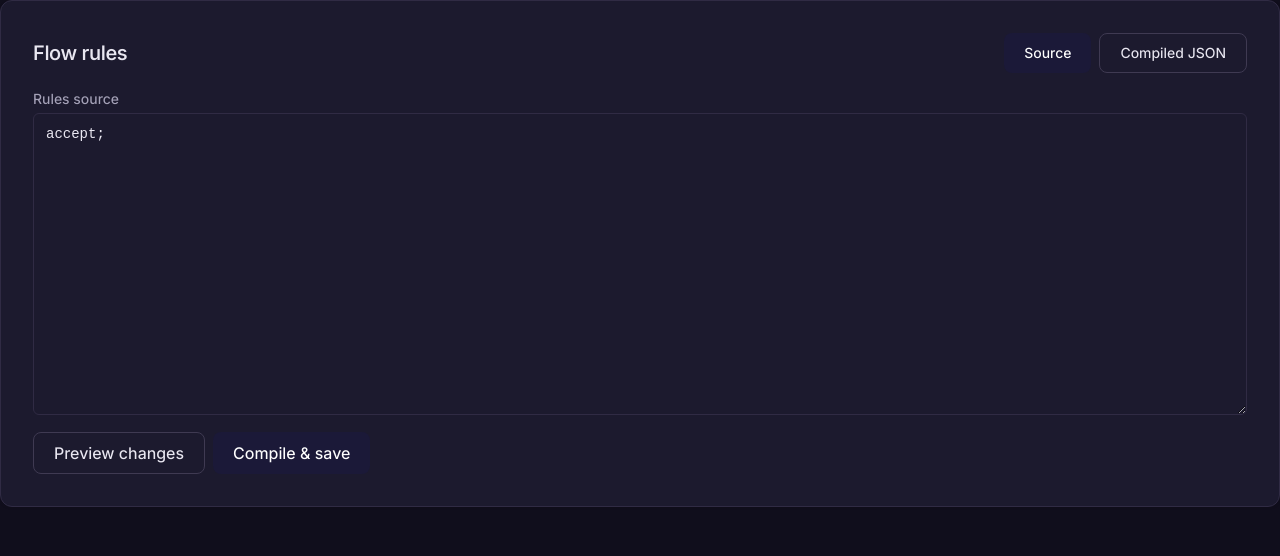
it: RulesEditor › renders the 422 compile error with line info inline
This screenshot has width=1280, height=556.
Expected: the text box labelled "Rules source" is shown, x1=33 y1=113 x2=1247 y2=415
Click the button "Compile & save": coordinates (292, 453) x1=213 y1=432 x2=370 y2=474
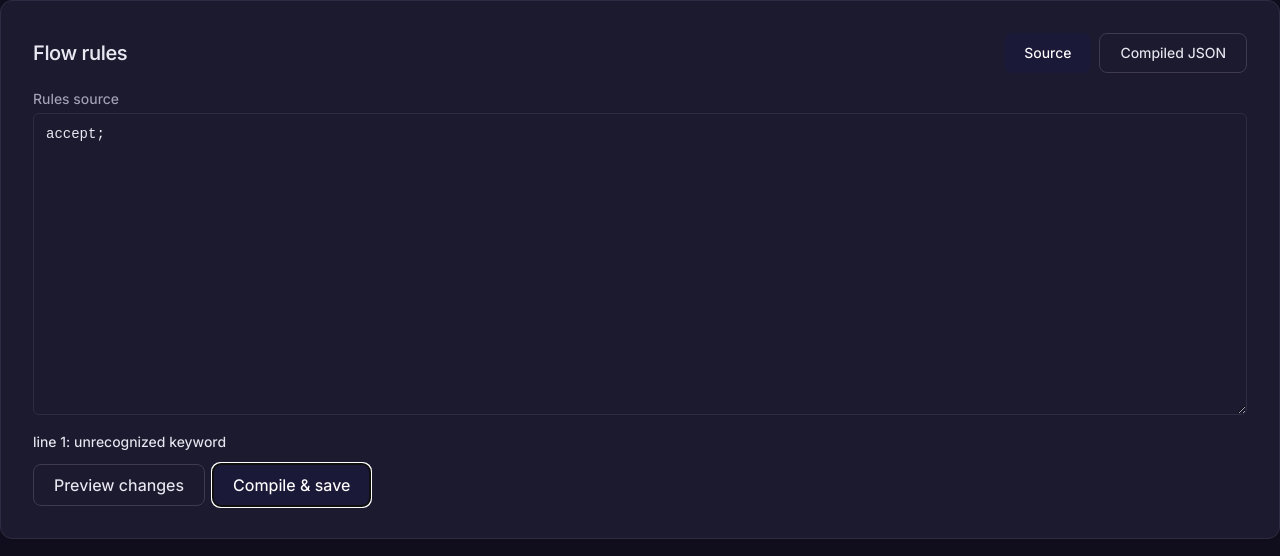
Now the message reads "line 1: unrecognized keyword", box x1=33 y1=433 x2=226 y2=450
